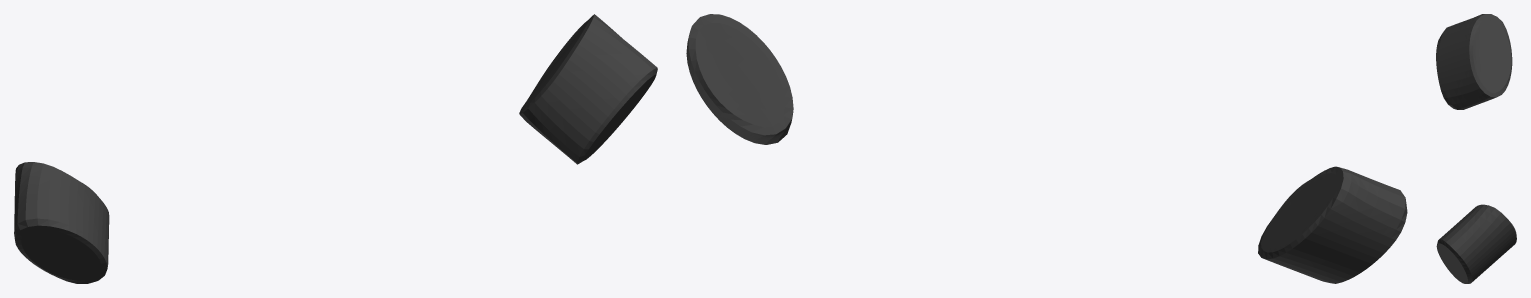
The picture shows the model from 3 angles, left to right: view 1: azimuth 30°, elevation 25°; view 2: azimuth 150°, elevation 25°; view 3: azimuth 270°, elevation 25°; orthographic projection. The views are drawn at different scales.
Visible parts, largest first — view 1: CN5_low_CN5_low; view 2: CN5_low_CN5_low; view 3: CN5_low_CN5_low.
Boxes of the visible parts, x1,y1,x2,y2 form: CN5_low_CN5_low: (14, 14, 657, 283); CN5_low_CN5_low: (686, 14, 1407, 283); CN5_low_CN5_low: (1436, 14, 1516, 283).
Bounding box in the file's own units: 25.19 × 4.63 × 3.87.
Materials: 1 (1 with a texture image).
